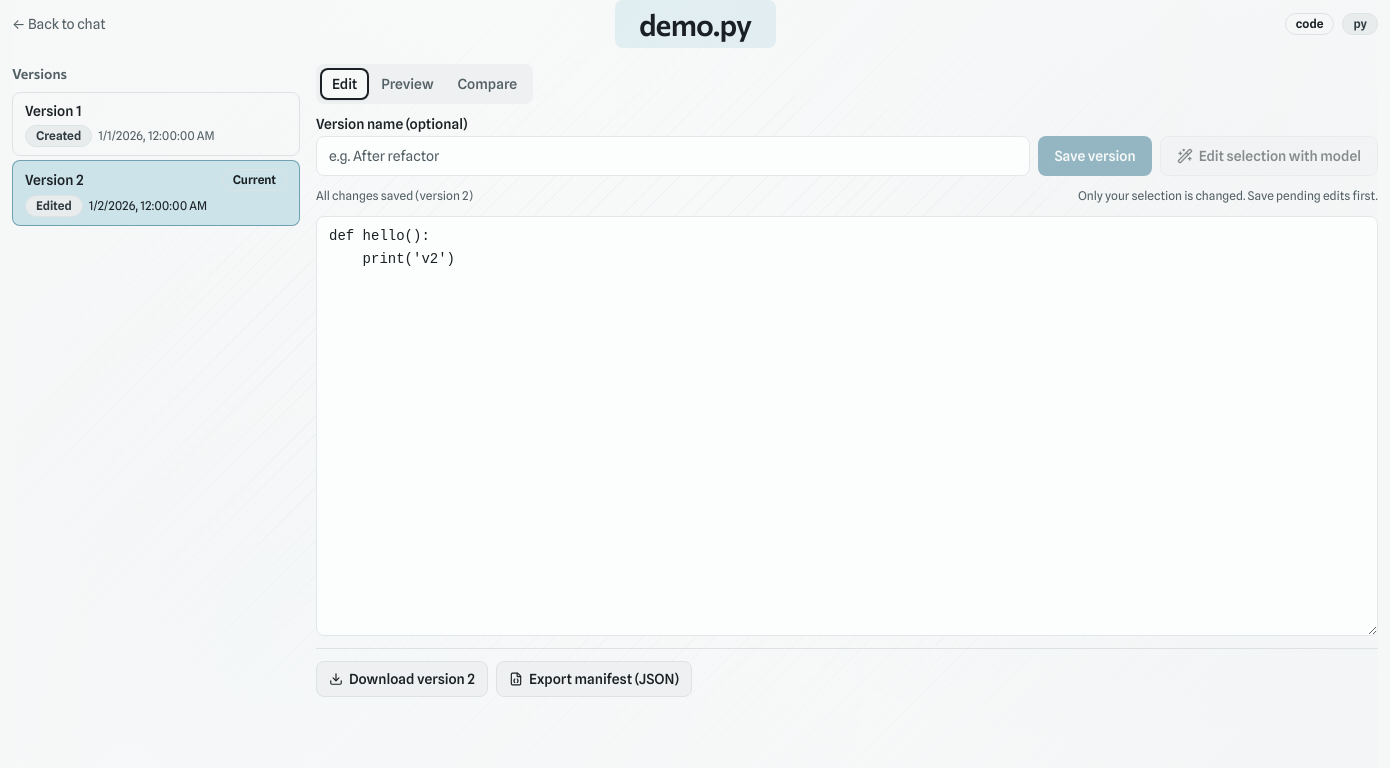
Scenario: CanvasPage localStorage draft durability › does not crash or restore anything when localStorage is unavailable
Replace the text in the text box named "Canvas content editor" with "still editable": (847, 426) [316, 216, 1378, 636]
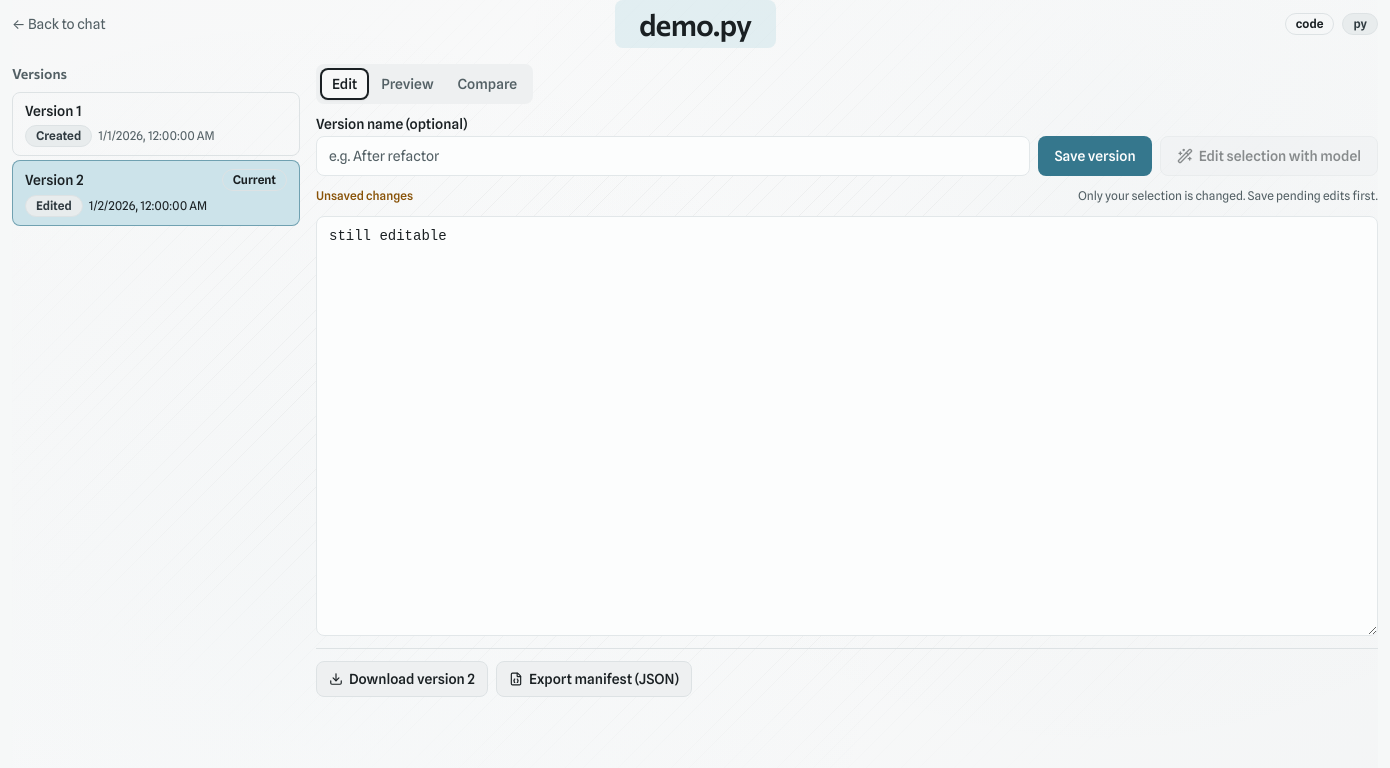
Now the text "Unsaved changes" is shown, box [316, 188, 413, 203]
